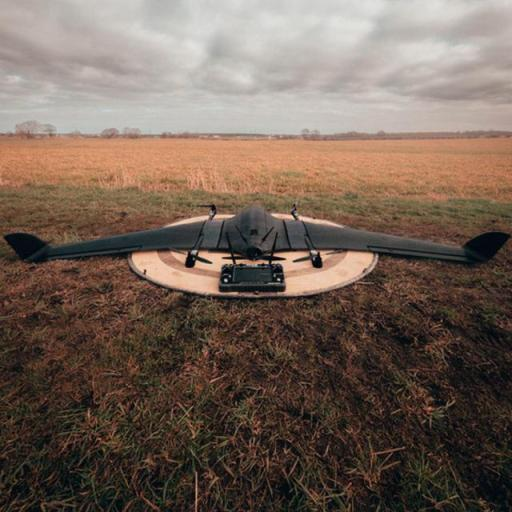uav: (5, 201, 509, 293)
